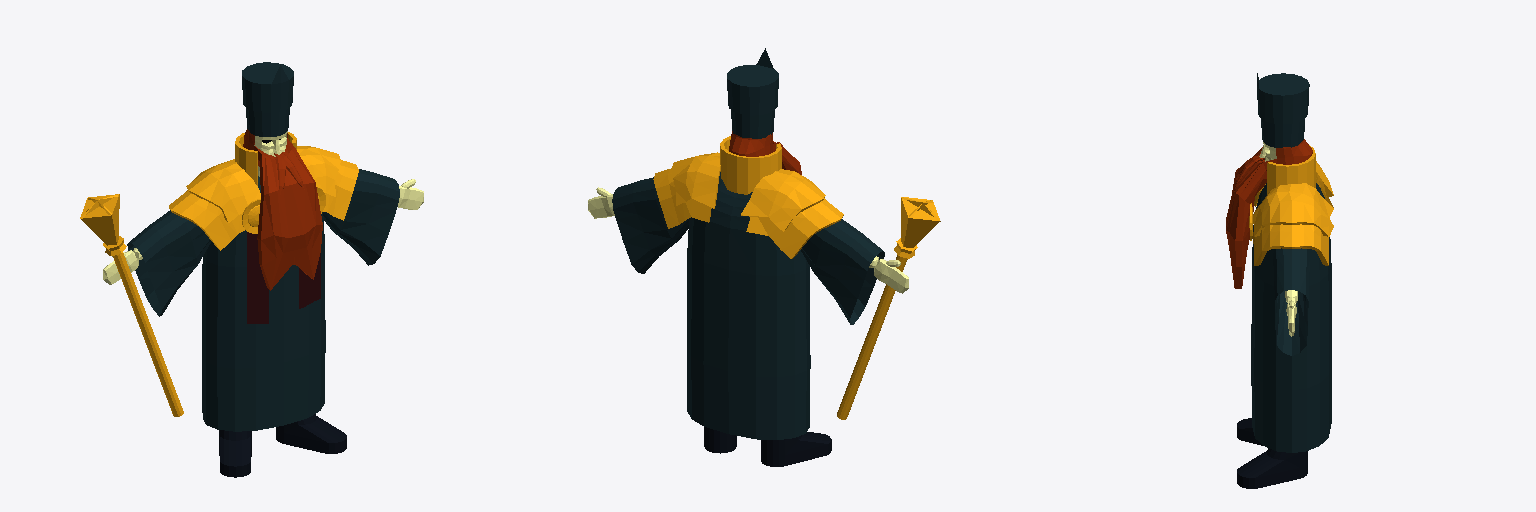
The model's file is priest_000001.obj.
The picture shows the model from 3 angles: view 1: azimuth 30°, elevation 25°; view 2: azimuth 150°, elevation 25°; view 3: azimuth 270°, elevation 25°; orthographic projection.
Parts seen in each view (by area): view 1: torso, cloak_arm, Cube, shoulder_armour_top, staff, Cylinder_Cylinder.001, boot, shoulder_armour_bottom, scarf_R, hand, neck_protector, scarf_L (+1 smaller); view 2: torso, cloak_arm, shoulder_armour_top, shoulder_armour_bottom, Cylinder_Cylinder.001, staff, boot, neck_protector, hand, head.001; view 3: torso, Cylinder_Cylinder.001, shoulder_armour_top, cloak_arm, Cube, boot, shoulder_armour_bottom, neck_protector, head.001.
Boxes of the visible parts, x1,y1,x2,y2 form: torso: [202, 176, 325, 431]; cloak_arm: [127, 169, 399, 316]; Cube: [254, 138, 322, 290]; shoulder_armour_top: [186, 146, 340, 222]; staff: [80, 194, 183, 416]; Cylinder_Cylinder.001: [242, 62, 293, 136]; boot: [219, 414, 346, 477]; shoulder_armour_bottom: [169, 160, 358, 250]; scarf_R: [247, 232, 268, 323]; hand: [103, 179, 423, 284]; neck_protector: [235, 132, 296, 185]; scarf_L: [299, 253, 320, 308]; torso: [687, 172, 810, 439]; cloak_arm: [612, 177, 884, 324]; shoulder_armour_top: [671, 152, 825, 231]; shoulder_armour_bottom: [653, 169, 843, 258]; Cylinder_Cylinder.001: [727, 48, 778, 138]; staff: [837, 197, 940, 419]; boot: [704, 427, 831, 466]; neck_protector: [720, 136, 781, 194]; hand: [588, 187, 908, 293]; head.001: [729, 131, 772, 156]; torso: [1251, 183, 1331, 452]; Cylinder_Cylinder.001: [1257, 73, 1309, 147]; shoulder_armour_top: [1253, 161, 1333, 236]; cloak_arm: [1273, 248, 1309, 355]; Cube: [1226, 147, 1277, 288]; boot: [1237, 418, 1307, 488]; shoulder_armour_bottom: [1252, 178, 1333, 265]; neck_protector: [1267, 145, 1315, 194]; head.001: [1276, 139, 1312, 164].
Bounding box in the file's own units: 9.89 × 10.66 × 2.67.